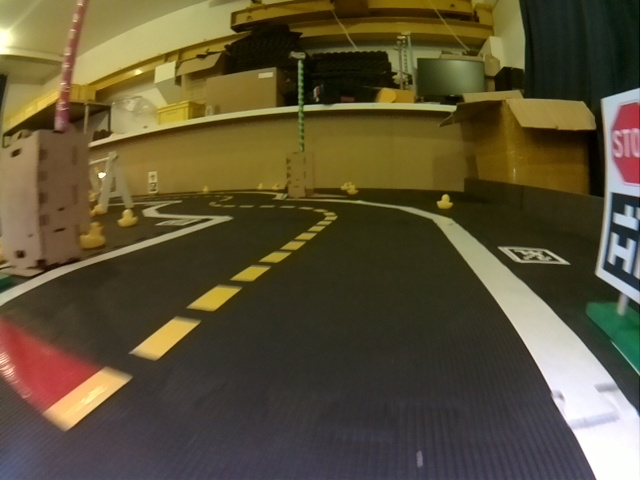Duckie: (80, 222, 105, 247), (118, 210, 137, 225), (437, 194, 452, 209), (348, 186, 358, 195), (341, 182, 350, 190)
QR code: (602, 194, 640, 291), (498, 249, 570, 264)
Stop sign: (610, 101, 639, 186)
